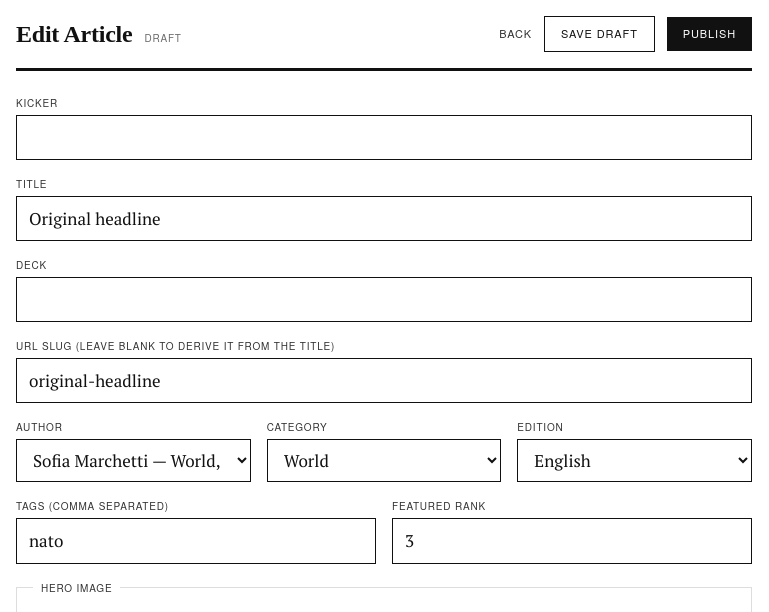
Test: Editor publishing rules › will not publish a story whose hero image has no alt text
The width and height of the screenshot is (769, 612).
Click the button "Publish" at coordinates (709, 34), box top-left (667, 17), bottom-right (752, 51)
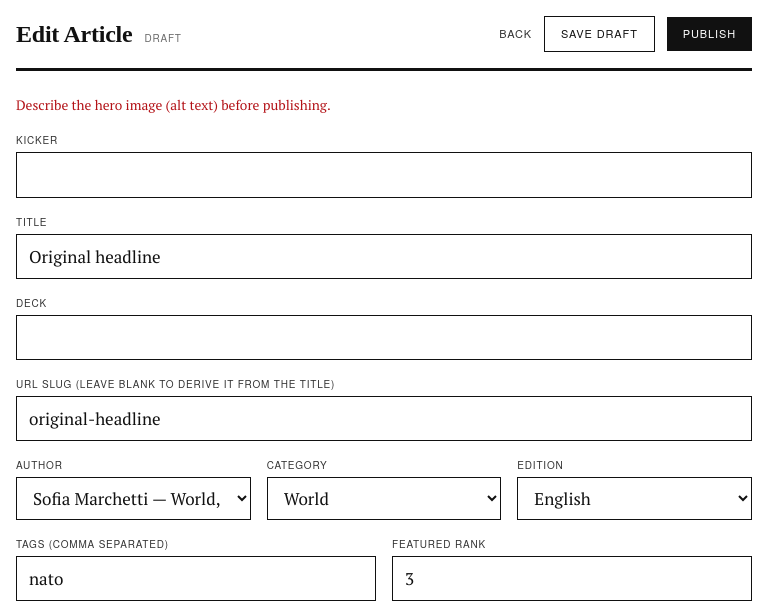
Expected: the text "Describe the hero image (alt text) before publishing." is shown, top-left (16, 96), bottom-right (331, 114)
